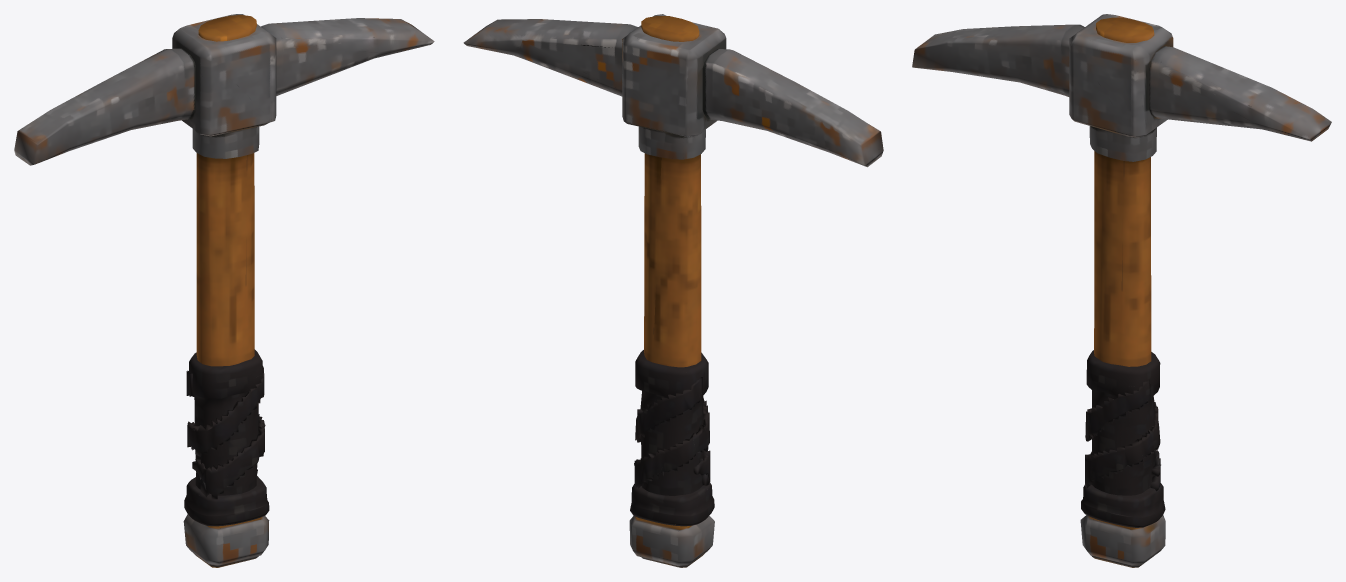
Rendered from pickaxe_worn.glb.
3 views of the same model, side by side, from view 1: azimuth 30°, elevation 25°; view 2: azimuth 150°, elevation 25°; view 3: azimuth 330°, elevation 25° (orthographic).
Visible parts, largest first — view 1: geometry_0; view 2: geometry_0; view 3: geometry_0.
Part boxes in pixels (<box>): geometry_0: <box>14,14,434,567</box>; geometry_0: <box>463,14,883,567</box>; geometry_0: <box>912,14,1331,567</box>.
Size of the model in its own units: 0.7515 by 0.9521 by 0.1211.
Materials: 1 (1 with a texture image).
